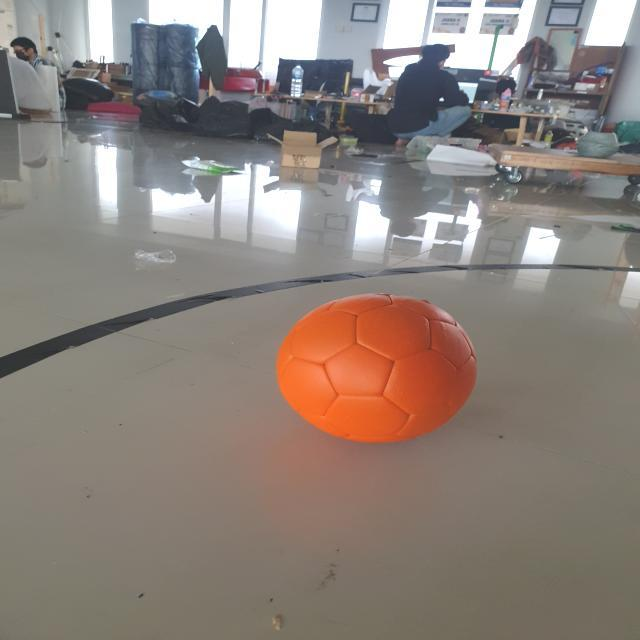bola: (276, 288, 486, 456)
